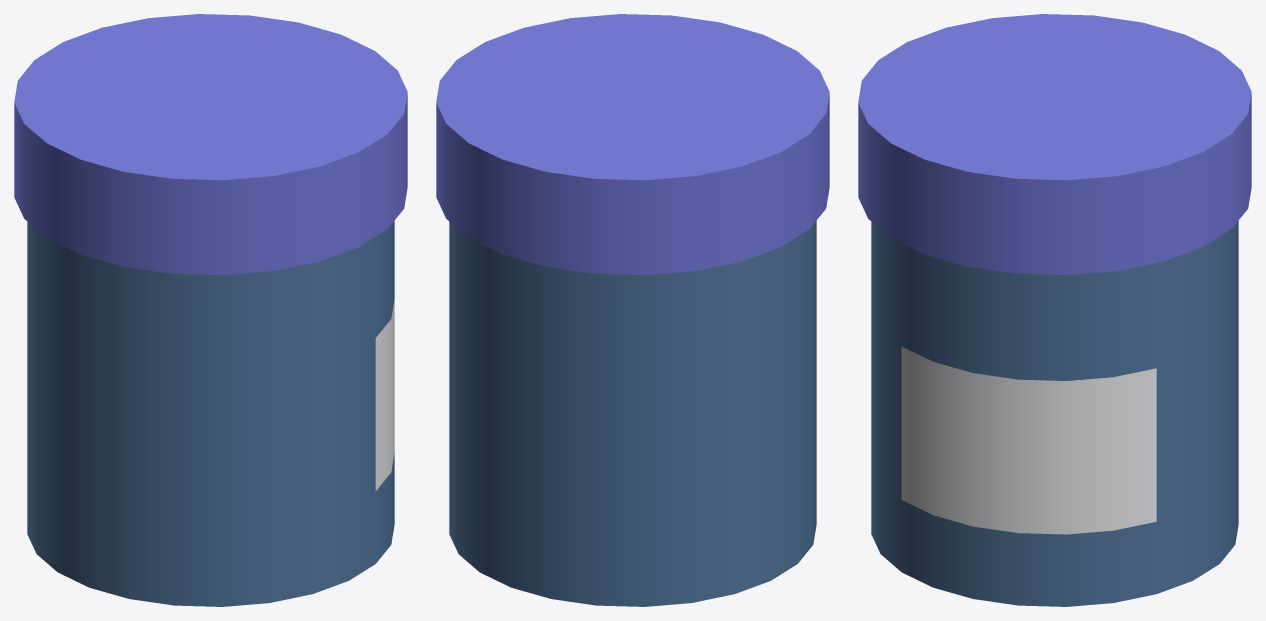
Rendered from 6 jar.fbx.
The picture shows the model from 3 angles, left to right: view 1: azimuth 30°, elevation 25°; view 2: azimuth 150°, elevation 25°; view 3: azimuth 270°, elevation 25°; orthographic projection.
Parts seen in each view (by area): view 1: 6 jar; view 2: 6 jar; view 3: 6 jar.
Part boxes in pixels (x1,y1,x2,y2): 6 jar: (14, 14, 407, 606); 6 jar: (436, 14, 829, 606); 6 jar: (858, 14, 1251, 606).
Bounding box in the file's own units: 6.7 × 8.13 × 6.7.
